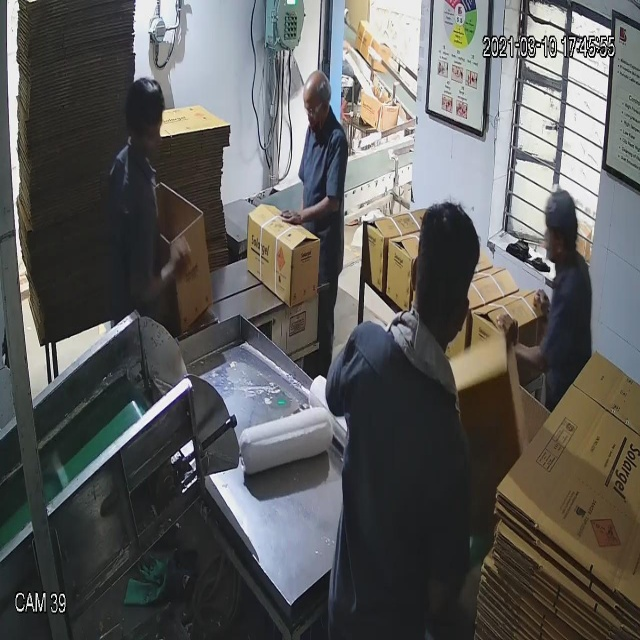Sin_guantes: (494, 284, 555, 390), (126, 226, 192, 309), (280, 176, 339, 240)
